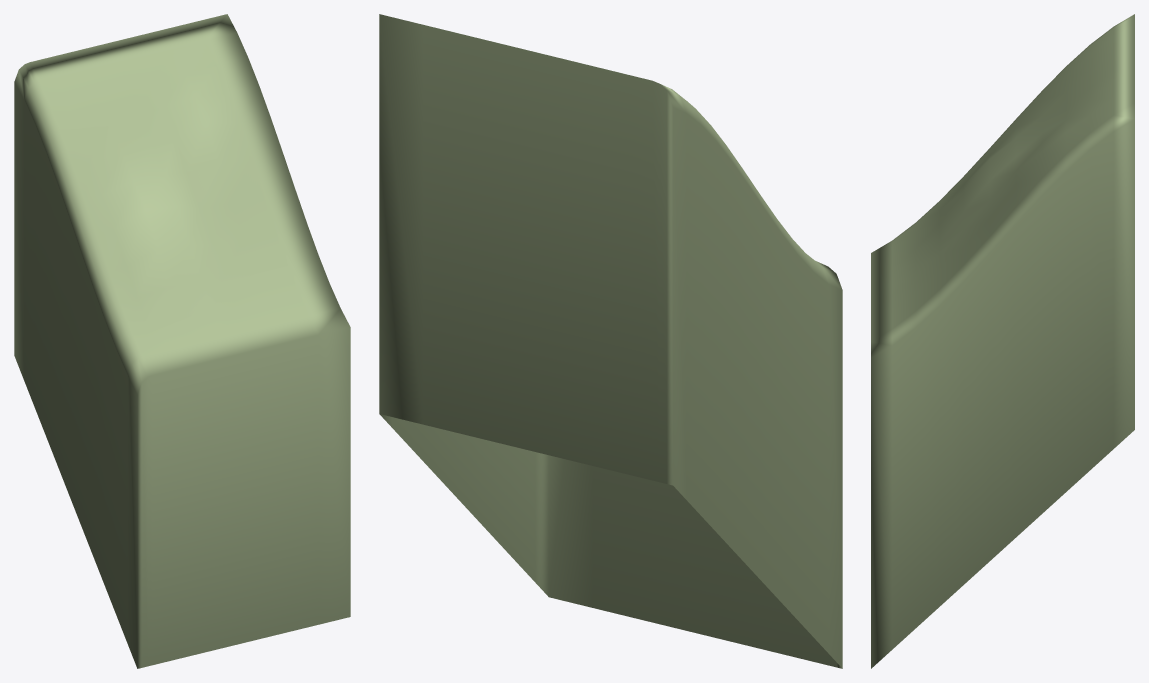
Rendered from ground-ramp-l-11.glb.
3 renders of one model, left to right at view 1: azimuth 30°, elevation 25°; view 2: azimuth 150°, elevation 25°; view 3: azimuth 270°, elevation 25°, orthographic. The views are drawn at different scales.
Parts seen in each view (by area): view 1: ground-ramp-l-11; view 2: ground-ramp-l-11; view 3: ground-ramp-l-11.
Part boxes in pixels (x1=…): ground-ramp-l-11: x1=14, y1=14, x2=350, y2=668; ground-ramp-l-11: x1=379, y1=14, x2=842, y2=668; ground-ramp-l-11: x1=871, y1=14, x2=1134, y2=668.
Bounding box in the file's own units: 1 × 2.3 × 1.
